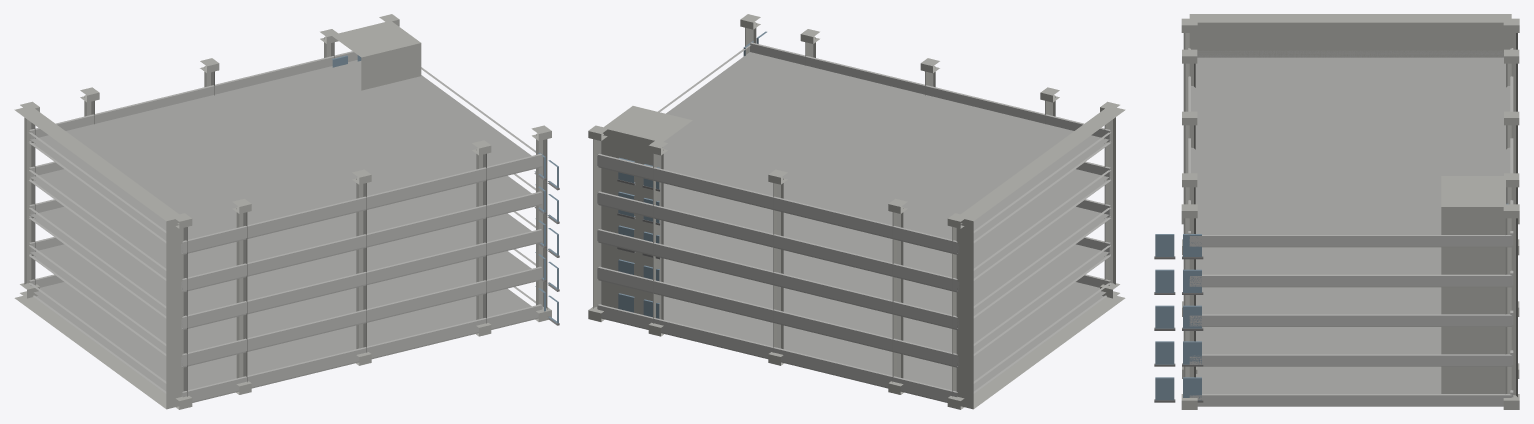
Rendered from carpark_multistory.glb.
3 renders of one model, left to right at view 1: azimuth 30°, elevation 25°; view 2: azimuth 150°, elevation 25°; view 3: azimuth 270°, elevation 25°, orthographic. The views are drawn at different scales.
Parts seen in each view (by area): view 1: carpark_multistory; view 2: carpark_multistory; view 3: carpark_multistory.
Part boxes in pixels (box(x1,y1,x2,y2)): carpark_multistory: box(14, 14, 559, 409); carpark_multistory: box(588, 14, 1125, 409); carpark_multistory: box(1154, 14, 1519, 409).
Size of the model in its own units: 31.85 by 15 by 24.97.
